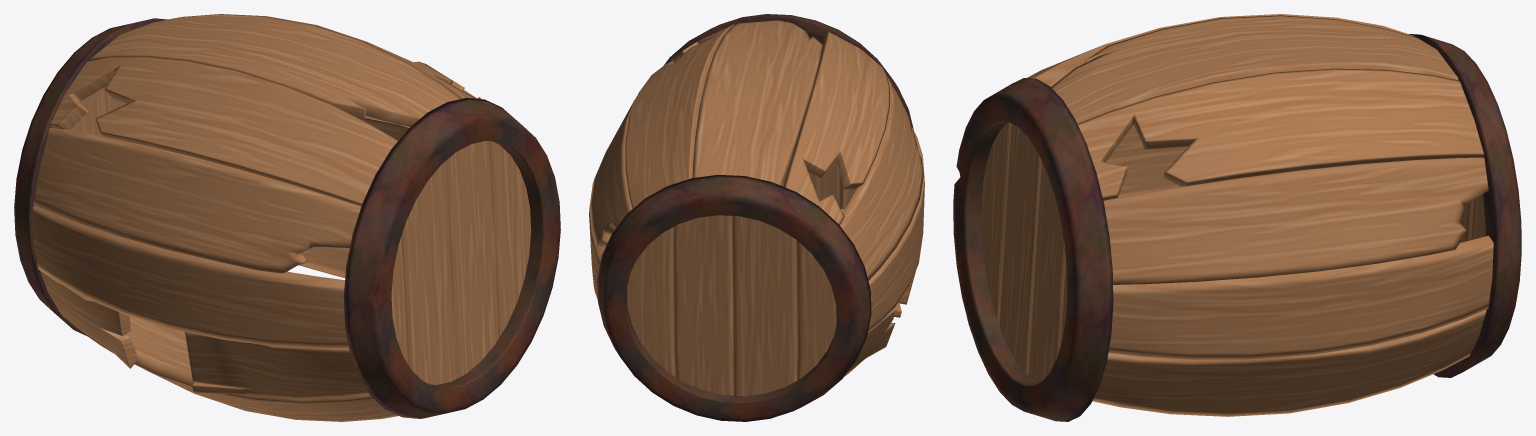
Rendered from BottomFeeders_Barrels.fbx.
3 views of the same model, side by side, from view 1: azimuth 30°, elevation 25°; view 2: azimuth 150°, elevation 25°; view 3: azimuth 270°, elevation 25° (orthographic). The views are drawn at different scales.
Parts seen in each view (by area): view 1: BottomFeeders_Barrels; view 2: BottomFeeders_Barrels; view 3: BottomFeeders_Barrels.
Part boxes in pixels (x1,y1,x2,y2): BottomFeeders_Barrels: (14,14,560,421); BottomFeeders_Barrels: (589,14,924,421); BottomFeeders_Barrels: (953,14,1521,421).
Bounding box in the file's own units: 3689 × 3004 × 4379.
Materials: 2 (2 with a texture image).
